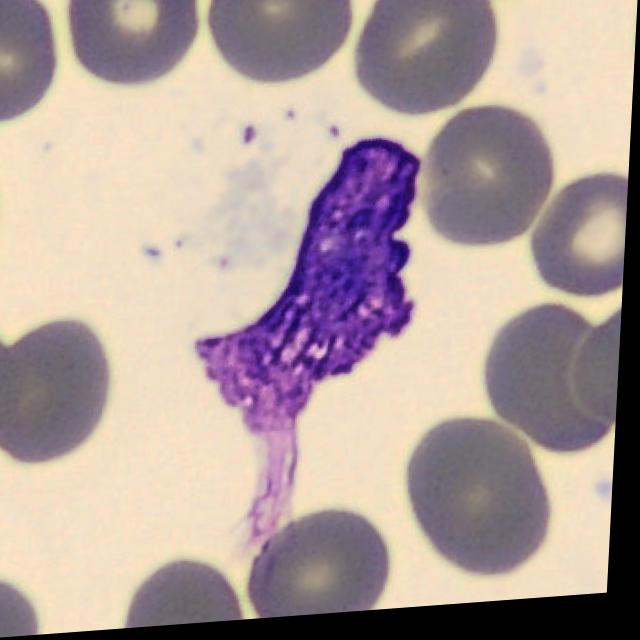Restos celulares: (199, 146, 420, 546)
